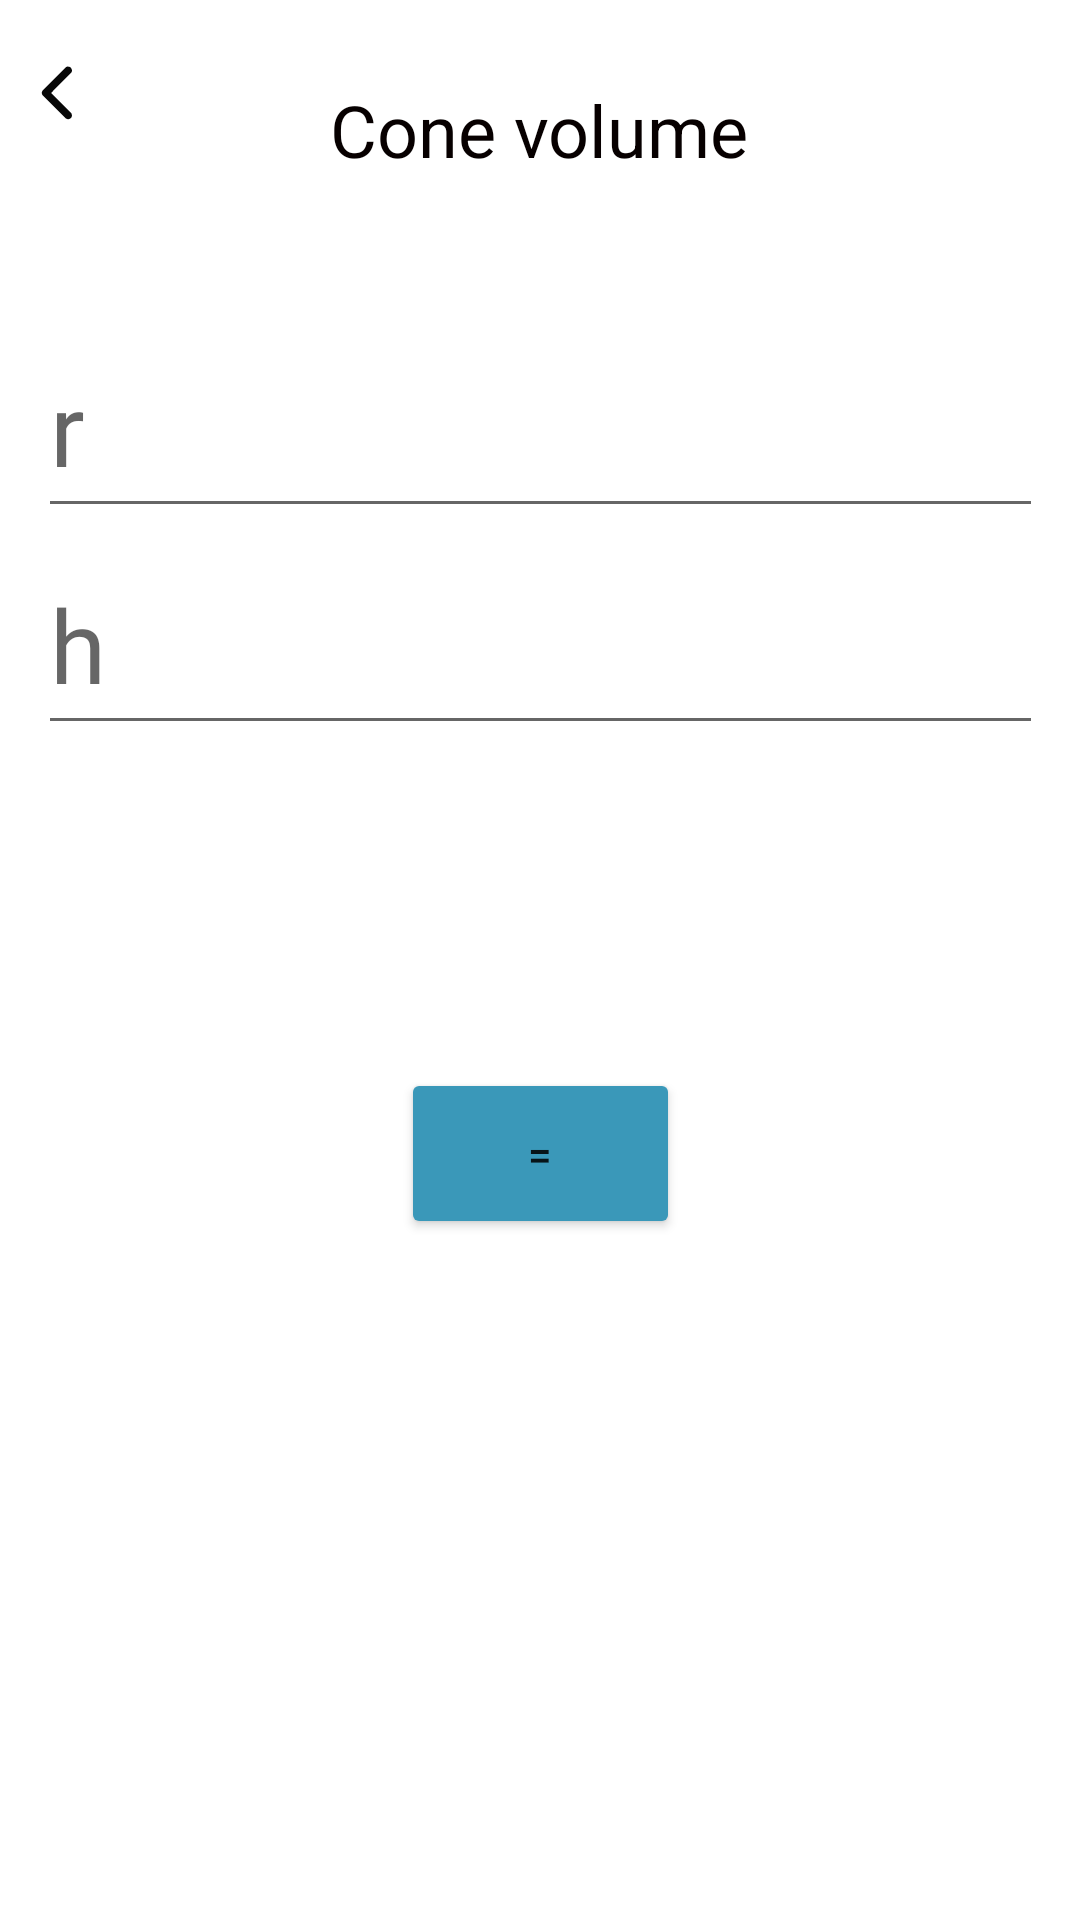

Icon bounding boxes for this 1080px×1920px phone screenshot, format Rect(x1, y1, x2, y2):
back: Rect(41, 66, 72, 120)
